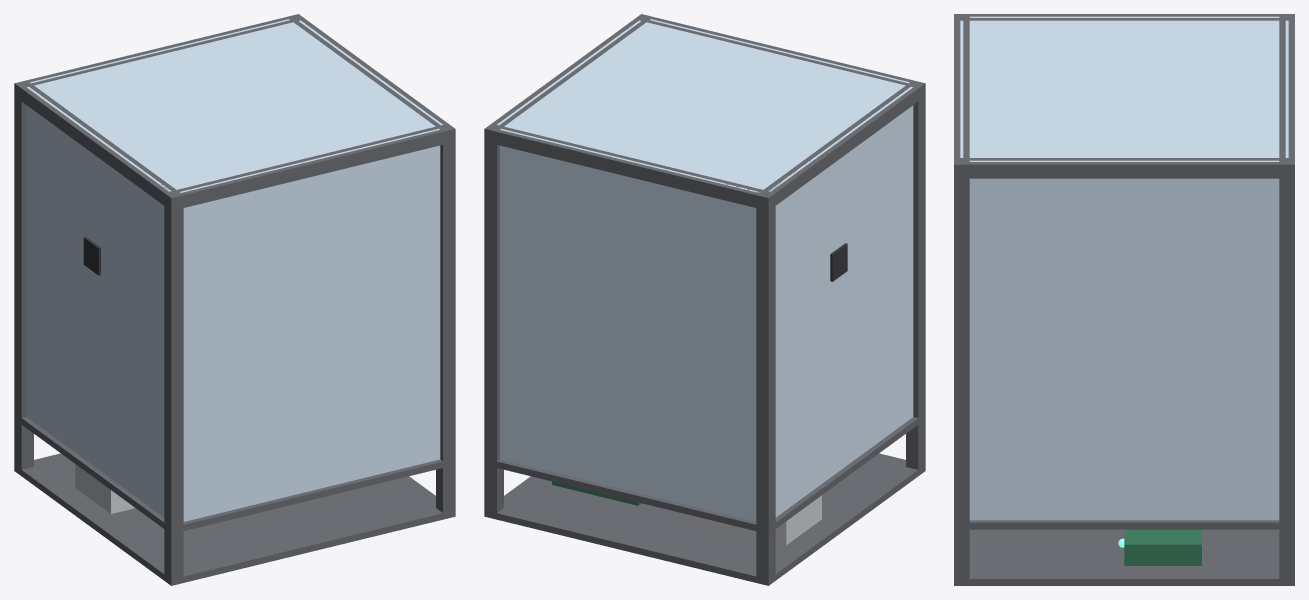
The model's file is printer.glb.
3 renders of one model, left to right at view 1: azimuth 30°, elevation 25°; view 2: azimuth 150°, elevation 25°; view 3: azimuth 270°, elevation 25°, orthographic. The views are drawn at different scales.
Parts seen in each view (by area): view 1: enclosure, frame, psu; view 2: enclosure, frame, psu; view 3: enclosure, frame, controller.
Boxes of the visible parts, <box> form: enclosure: <box>26,19,442,521</box>; frame: <box>14,14,455,585</box>; psu: <box>75,464,135,513</box>; enclosure: <box>497,19,913,521</box>; frame: <box>484,14,925,585</box>; psu: <box>687,495,821,545</box>; enclosure: <box>960,16,1288,520</box>; frame: <box>954,14,1294,585</box>; controller: <box>1124,529,1201,565</box>.
Size of the model in its own units: 0.46 by 0.6 by 0.44.
